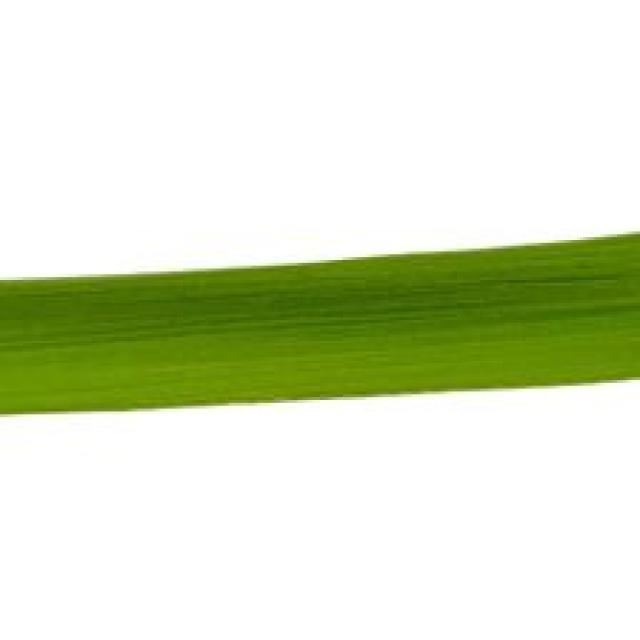Rice___Healthy_Rice_Plant: (2, 233, 637, 417)
